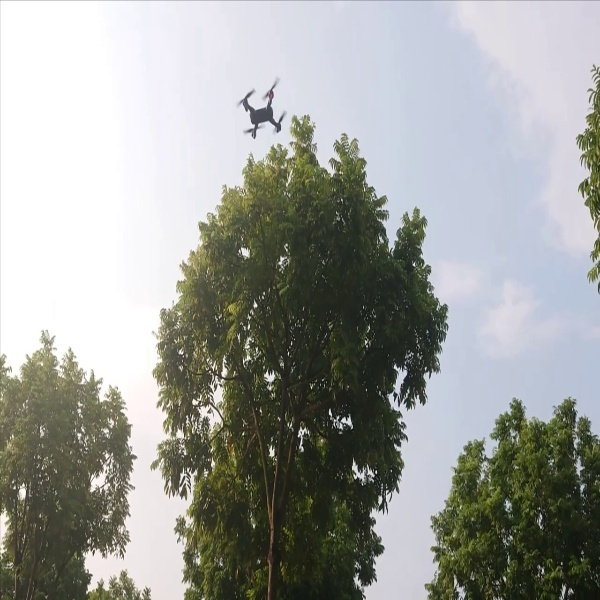drone: (224, 80, 290, 142)
